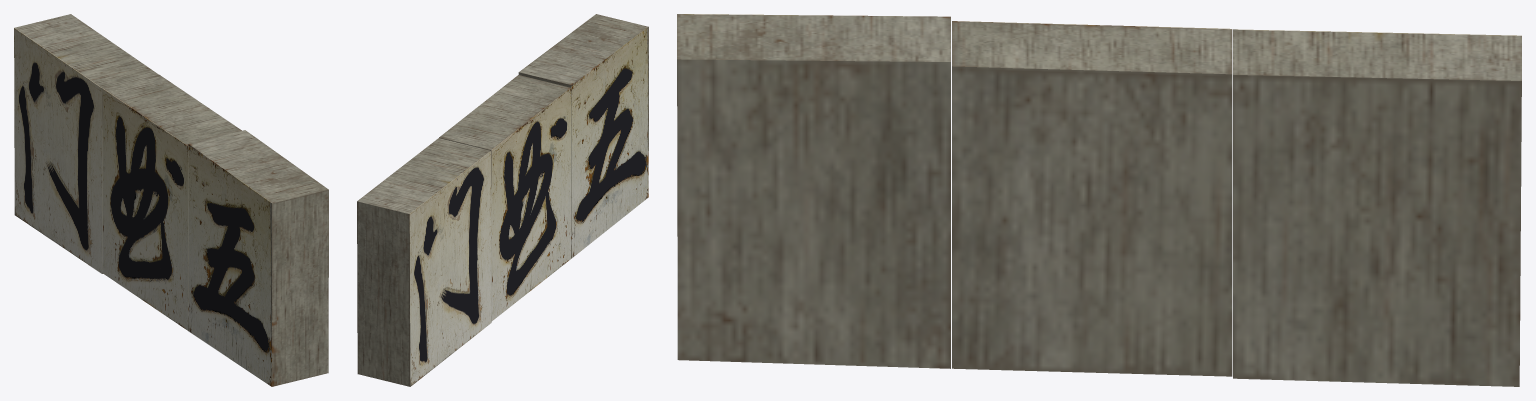
The model's file is SM_Tablet01b.fbx.
3 views of the same model, side by side, from view 1: azimuth 30°, elevation 25°; view 2: azimuth 150°, elevation 25°; view 3: azimuth 270°, elevation 25° (orthographic). The views are drawn at different scales.
Parts seen in each view (by area): view 1: SM_Tablet01b; view 2: SM_Tablet01b; view 3: SM_Tablet01b.
Part boxes in pixels (left/top/right/bottom): SM_Tablet01b: left=14, top=14, right=328, bottom=386; SM_Tablet01b: left=357, top=14, right=648, bottom=386; SM_Tablet01b: left=677, top=14, right=1521, bottom=386.
Bounding box in the file's own units: 10 × 78.55 × 33.6.
1 material, 1 textured.
